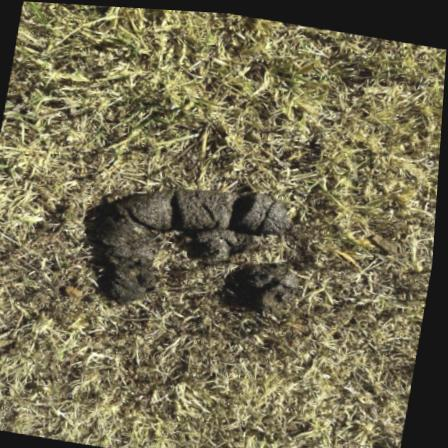dog-poop: (86, 165, 291, 317)
